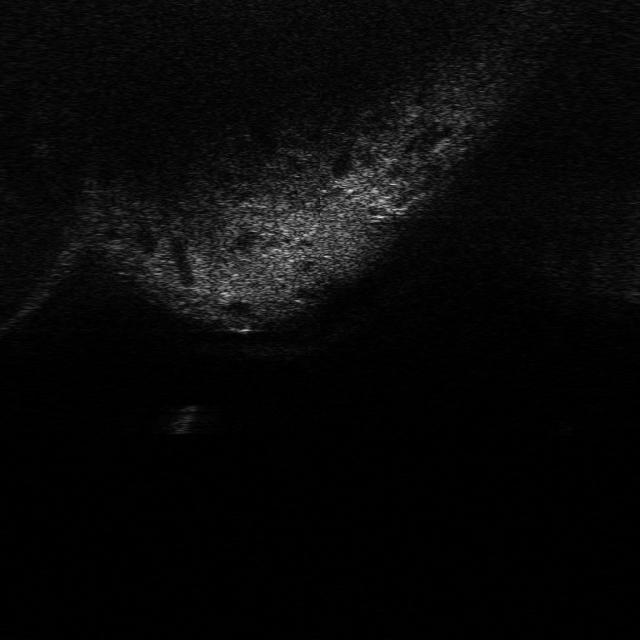cylinder: (164, 402, 204, 436)
